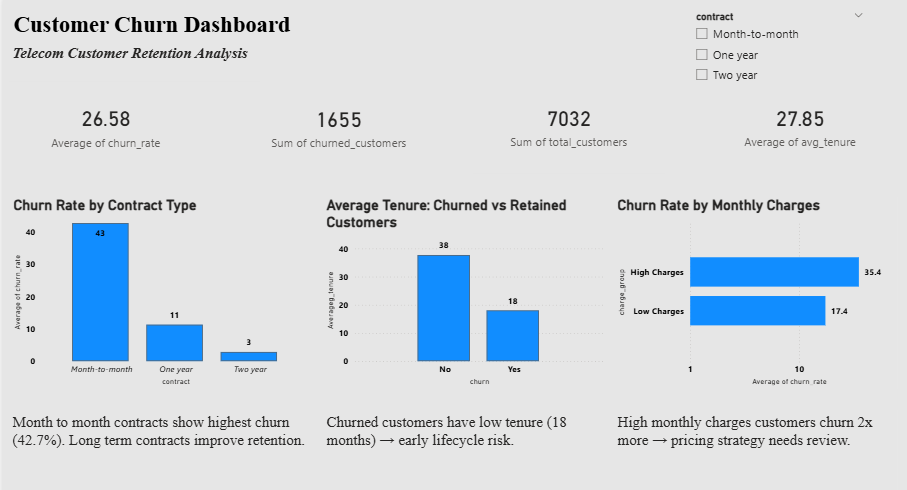

Layout of this report page (visuals, bound fields, positions):
{"tool":"powerbi","page":{"name":"Page 1","canvas":[1280,720],"ordinal":0},"visuals":[{"type":"card","fields":{"Values":["Avg(1.churn_rate)"]},"box":[10,115,271.7,140],"z":0},{"type":"card","fields":{"Values":["Sum(2.total_customers)"]},"box":[666.7,115,271.7,138.3],"z":1000},{"type":"card","fields":{"Values":["Avg(3.avg_tenure)"]},"box":[990,113.3,278.3,141.7],"z":2000},{"type":"card","fields":{"Values":["Sum(2.churned_customers)"]},"box":[340,115,271.7,141.7],"z":3000},{"type":"clusteredColumnChart","title":"Churn Rate by Contract Type","fields":{"Category":["2.contract"],"Y":["Avg(2.churn_rate)"]},"box":[10,286.7,430,271.7],"z":4000},{"type":"clusteredColumnChart","title":"Average Tenure: Churned vs Retained Customers","fields":{"Category":["3.churn"],"Y":["Avg(3.avg_tenure)"]},"box":[453.3,286.7,403.3,271.7],"z":5000},{"type":"barChart","title":"Churn Rate by Monthly Charges","fields":{"Category":["4.charge_group"],"Y":["Avg(4.churn_rate)"]},"box":[866.7,286.7,401.7,271.7],"z":6000},{"type":"textbox","box":[8.3,588.3,431.7,131.7],"z":7000},{"type":"textbox","box":[453.3,588.3,403.3,131.7],"z":8000},{"type":"textbox","box":[866.7,588.3,401.7,131.7],"z":9000},{"type":"textbox","box":[10,18.3,430,46.7],"z":10000},{"type":"textbox","box":[8.3,65,355,56.7],"z":11000},{"type":"slicer","fields":{"Values":["2.contract"]},"box":[970,17.5,262.5,122.5],"z":12000}]}

Visuals, with their boxes on the page's 1280x720 design canvas (x1, y1, x2, y2). These are canvas units, not pixel positions in the 907x490 screenshot, which may show the page scaled, cropped or inside an application window:
card - Avg(1.churn_rate): 10 115 282 255
card - Sum(2.total_customers): 667 115 938 253
card - Avg(3.avg_tenure): 990 113 1268 255
card - Sum(2.churned_customers): 340 115 612 257
"Churn Rate by Contract Type" clusteredColumnChart: 10 287 440 558
"Average Tenure: Churned vs Retained Customers" clusteredColumnChart: 453 287 857 558
"Churn Rate by Monthly Charges" barChart: 867 287 1268 558
textbox: 8 588 440 720
textbox: 453 588 857 720
textbox: 867 588 1268 720
textbox: 10 18 440 65
textbox: 8 65 363 122
slicer - 2.contract: 970 18 1232 140
